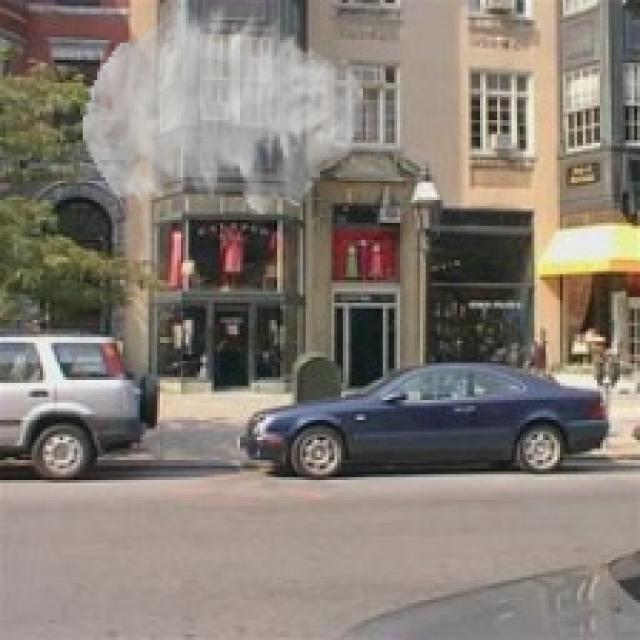smoke: (83, 3, 363, 214)
